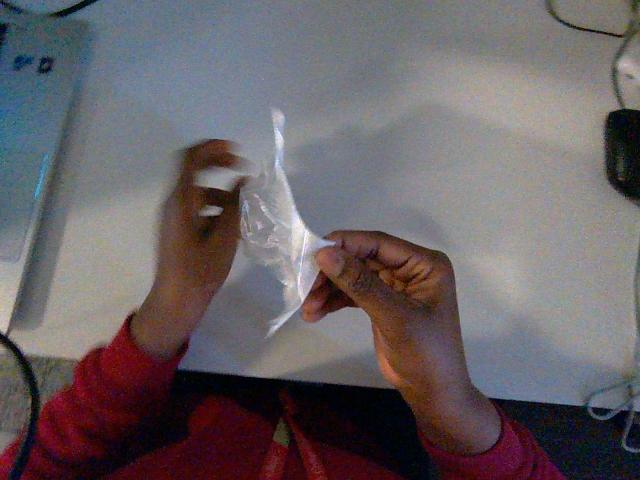gallipot: (240, 109, 332, 336)
